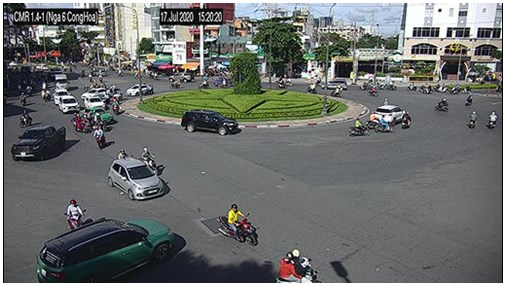xe_hoi: (37, 218, 179, 283), (107, 158, 164, 201), (11, 125, 65, 162), (181, 109, 237, 136), (377, 104, 406, 123), (59, 95, 79, 114), (126, 84, 153, 97), (322, 78, 346, 89), (84, 87, 107, 98), (84, 97, 104, 109), (168, 72, 189, 83), (54, 89, 69, 104)
xe_khach: (54, 74, 68, 89)
xe_may: (275, 249, 321, 284), (218, 205, 256, 247), (139, 146, 160, 173), (66, 199, 82, 229), (347, 117, 369, 138), (95, 124, 108, 150), (376, 115, 392, 133), (433, 97, 450, 113), (366, 112, 381, 129), (19, 109, 32, 128), (111, 97, 123, 116), (486, 110, 498, 129), (400, 111, 410, 129), (469, 110, 478, 129), (449, 81, 460, 95), (275, 76, 285, 90), (19, 91, 28, 106), (195, 81, 210, 90), (464, 92, 473, 107), (305, 82, 315, 95), (439, 81, 448, 94), (329, 86, 340, 96), (420, 82, 430, 93), (368, 85, 380, 94), (385, 80, 395, 90), (216, 78, 227, 87), (432, 83, 440, 95), (283, 77, 292, 87), (118, 148, 126, 158), (406, 82, 416, 90), (45, 89, 51, 102), (172, 80, 179, 90), (81, 69, 87, 78)
